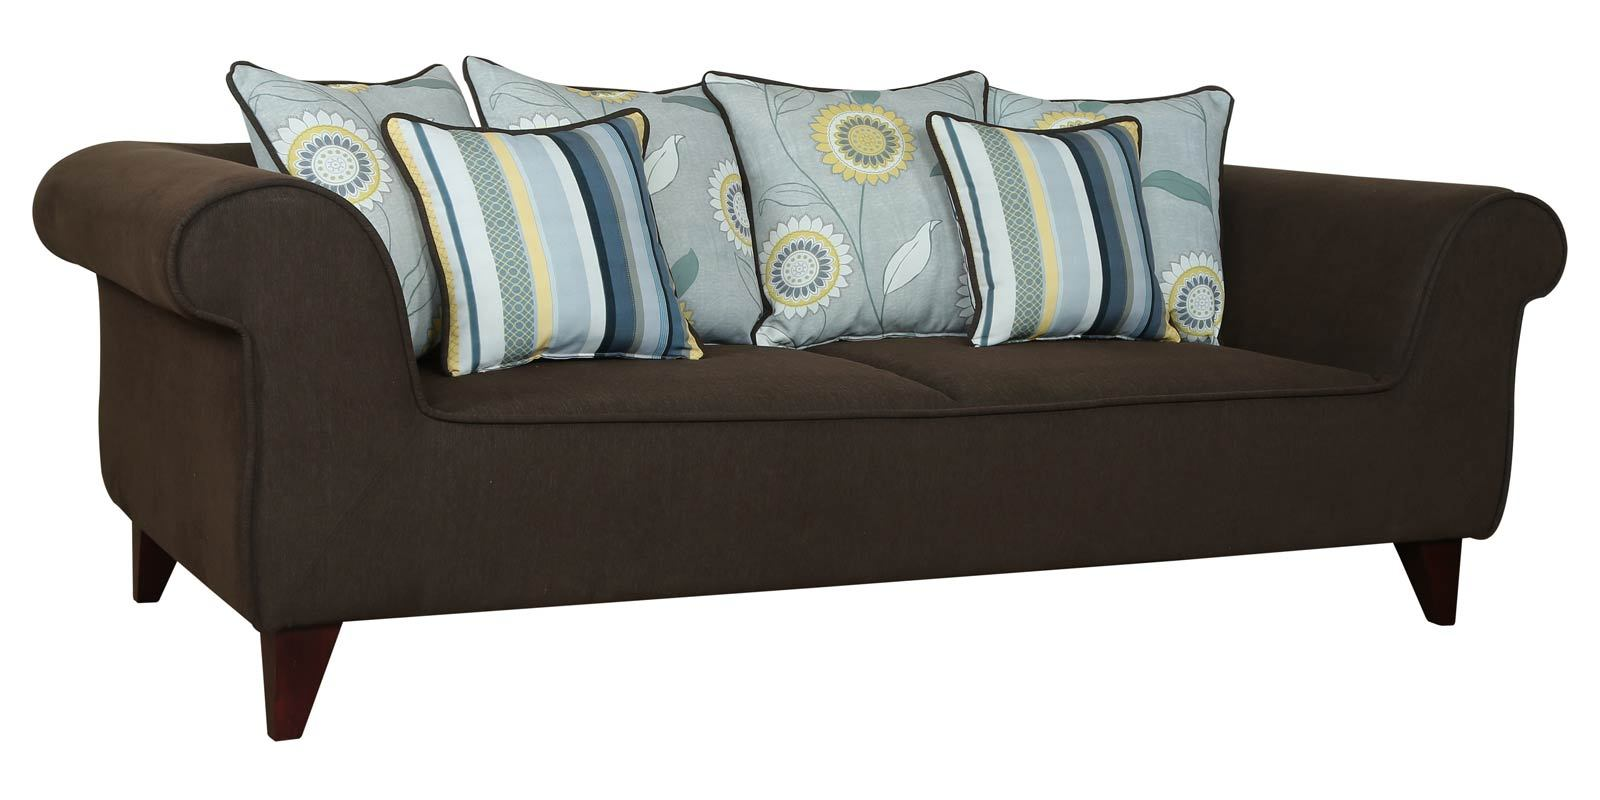Cielo Three Seater Sofa in Chestnut Brown Colour by CasaCraft: (16, 69, 1573, 646)
